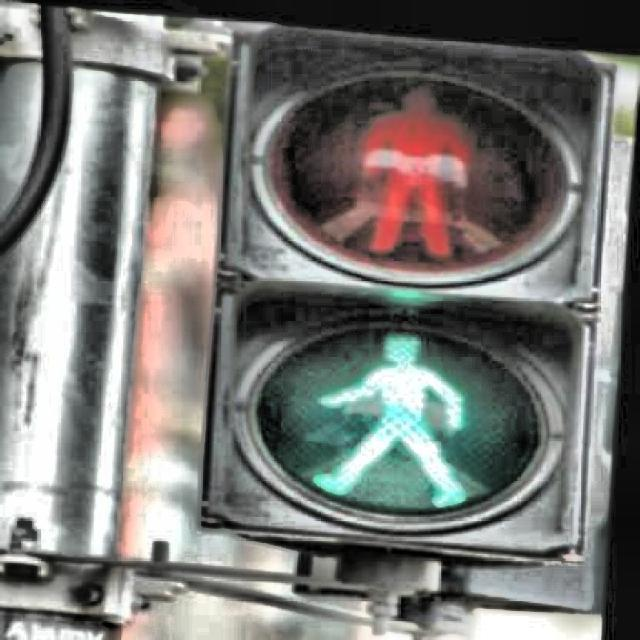semaforo pedestre: (218, 17, 632, 640)
